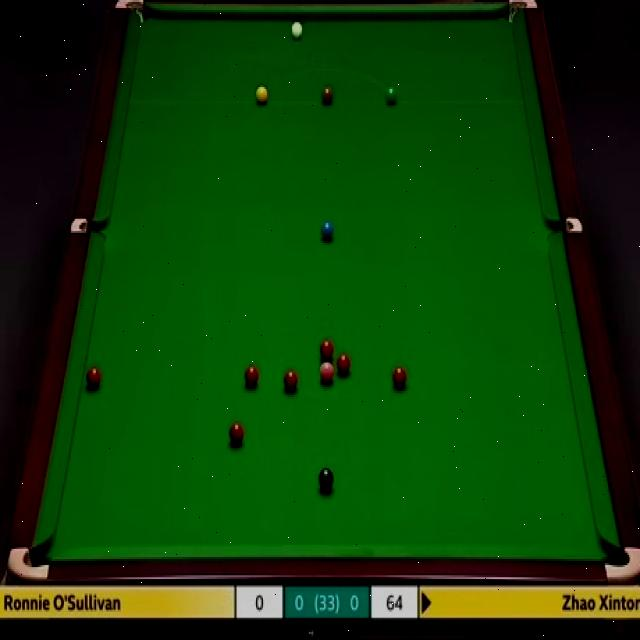black-ball: (318, 466, 334, 491)
blue-ball: (320, 222, 334, 239)
brown-ball: (322, 86, 333, 103)
green-ball: (384, 83, 399, 106)
pink-ball: (320, 362, 334, 383)
red-ball: (242, 361, 260, 390), (228, 420, 246, 446), (392, 364, 406, 391), (336, 352, 352, 375), (284, 370, 299, 394), (319, 340, 335, 360), (86, 365, 100, 387)
white-ball: (289, 22, 303, 39)
yellow-ball: (256, 85, 268, 106)
